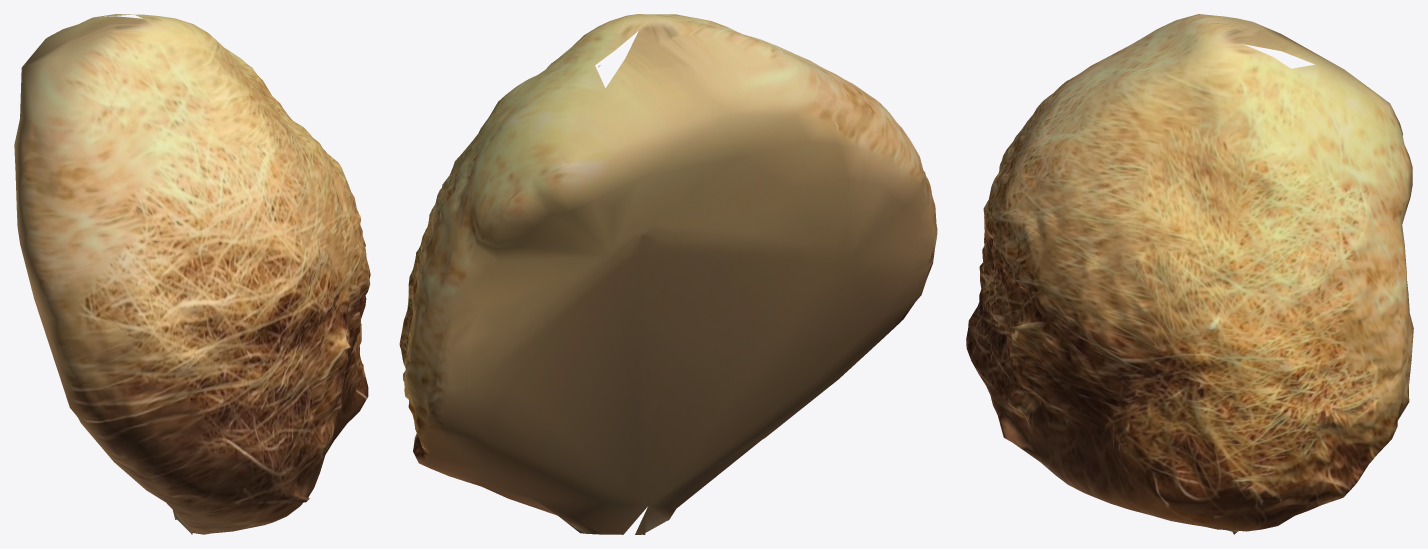
File: Fibre Ball.glb
3 renders of one model, left to right at view 1: azimuth 30°, elevation 25°; view 2: azimuth 150°, elevation 25°; view 3: azimuth 270°, elevation 25°, orthographic. The views are drawn at different scales.
Size of the model in its own units: 0.162 by 0.1958 by 0.1708.
1 material, 1 textured.
